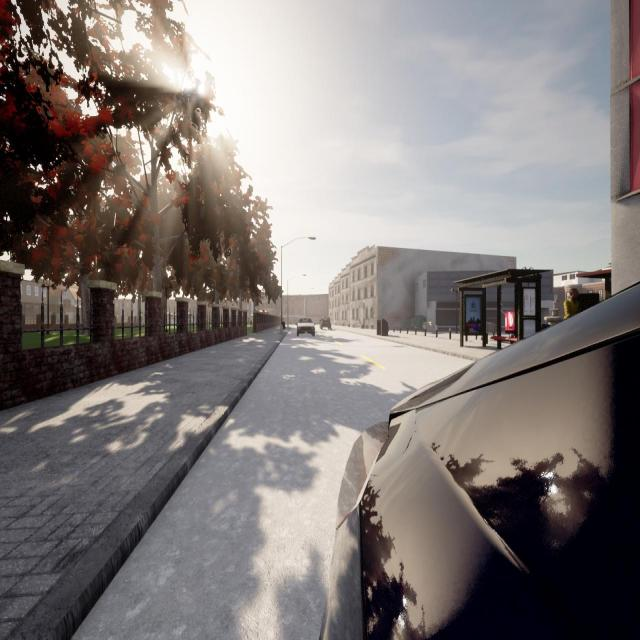Pedestrian: (564, 288, 578, 319)
Vehicle: (321, 286, 640, 640), (295, 317, 316, 337), (319, 317, 332, 330)
